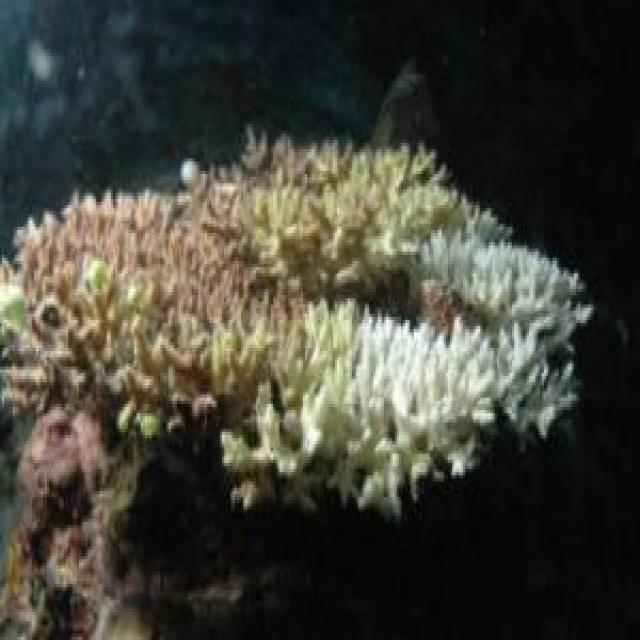bleached coral: (429, 249, 587, 317), (358, 376, 427, 475), (442, 326, 499, 413), (365, 311, 420, 342)
healthy coral: (34, 429, 98, 628), (237, 171, 401, 236), (105, 199, 201, 286), (115, 314, 207, 398), (220, 301, 314, 367), (11, 363, 92, 438), (230, 193, 288, 277), (19, 242, 77, 308), (77, 255, 122, 298)
